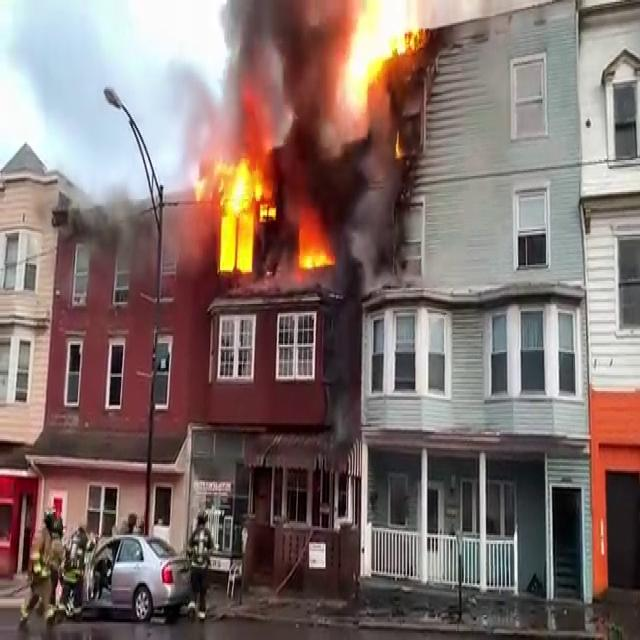Fire: (332, 0, 426, 128), (193, 140, 277, 281), (292, 210, 336, 284)
Smoke: (183, 0, 417, 174)
